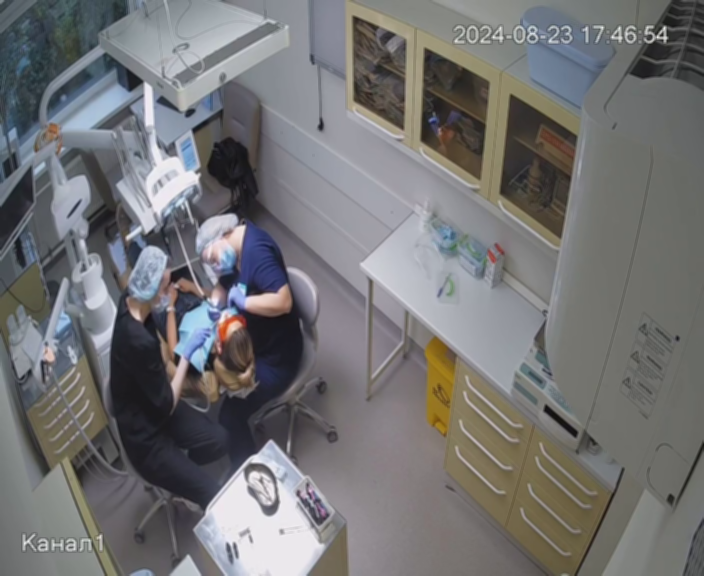Patient: (90, 199, 267, 406)
